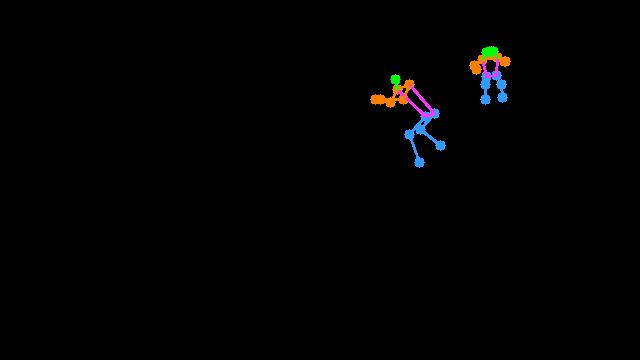normal: (362, 66, 456, 175), (463, 34, 517, 112)
